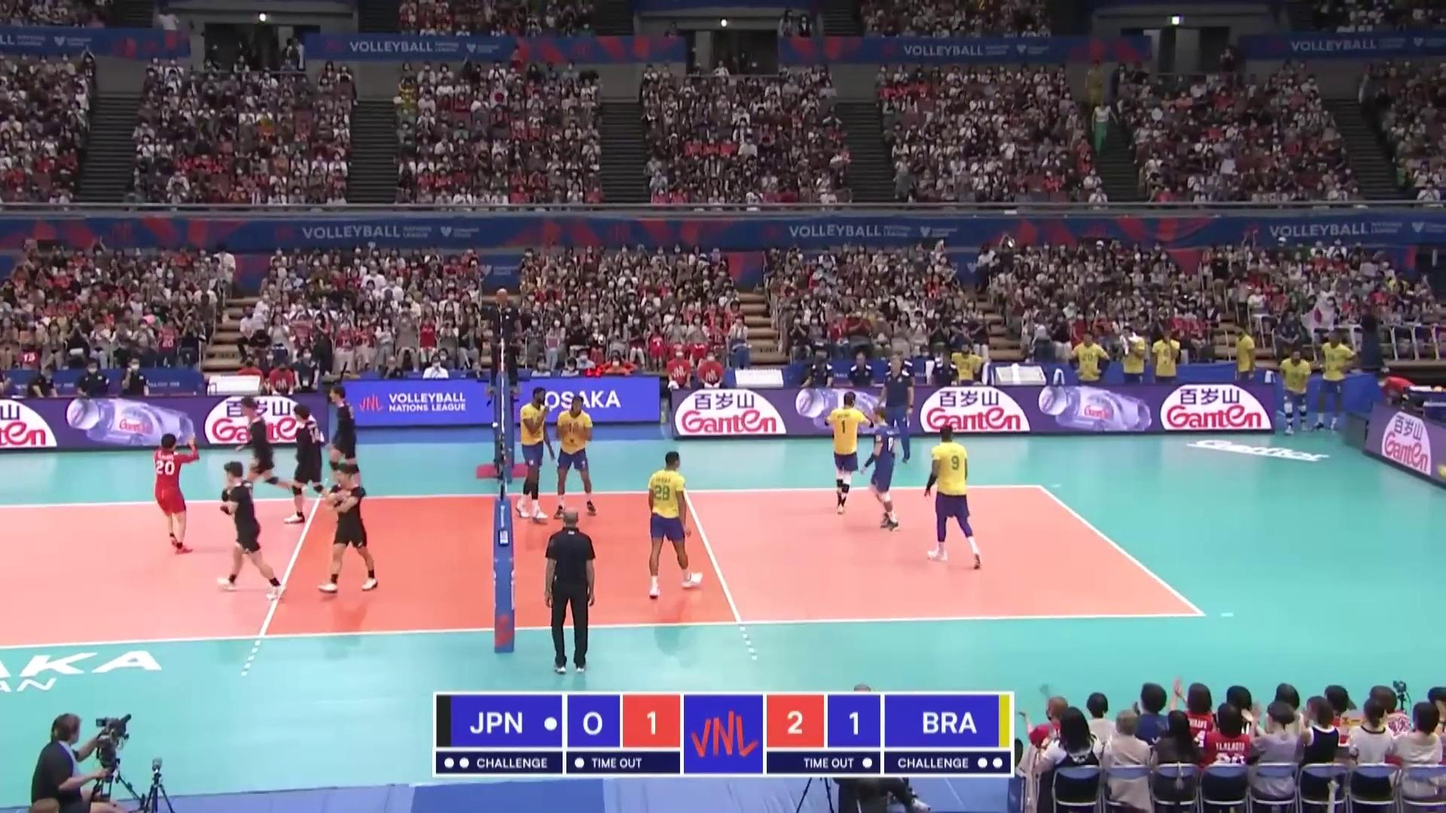player: (644, 450, 707, 600), (219, 463, 285, 600), (924, 424, 984, 567), (230, 396, 307, 506), (321, 464, 379, 594), (549, 395, 597, 517), (825, 392, 870, 518), (153, 432, 196, 555), (320, 384, 364, 504), (286, 405, 331, 522), (512, 386, 549, 522), (864, 408, 903, 534)
refree: (545, 509, 596, 672), (486, 289, 520, 398)
